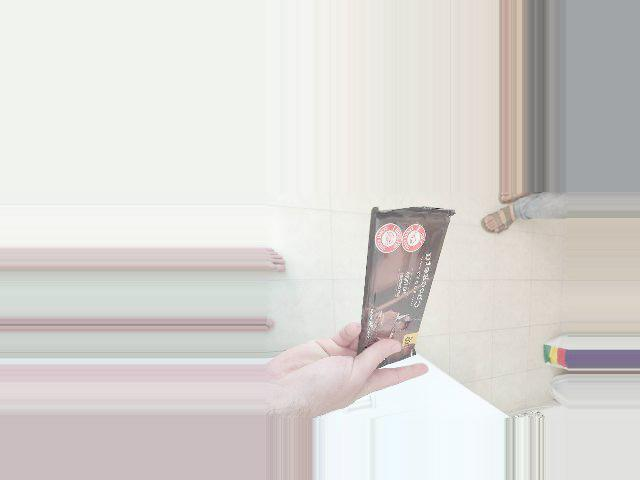chocolate: (349, 200, 458, 381)
